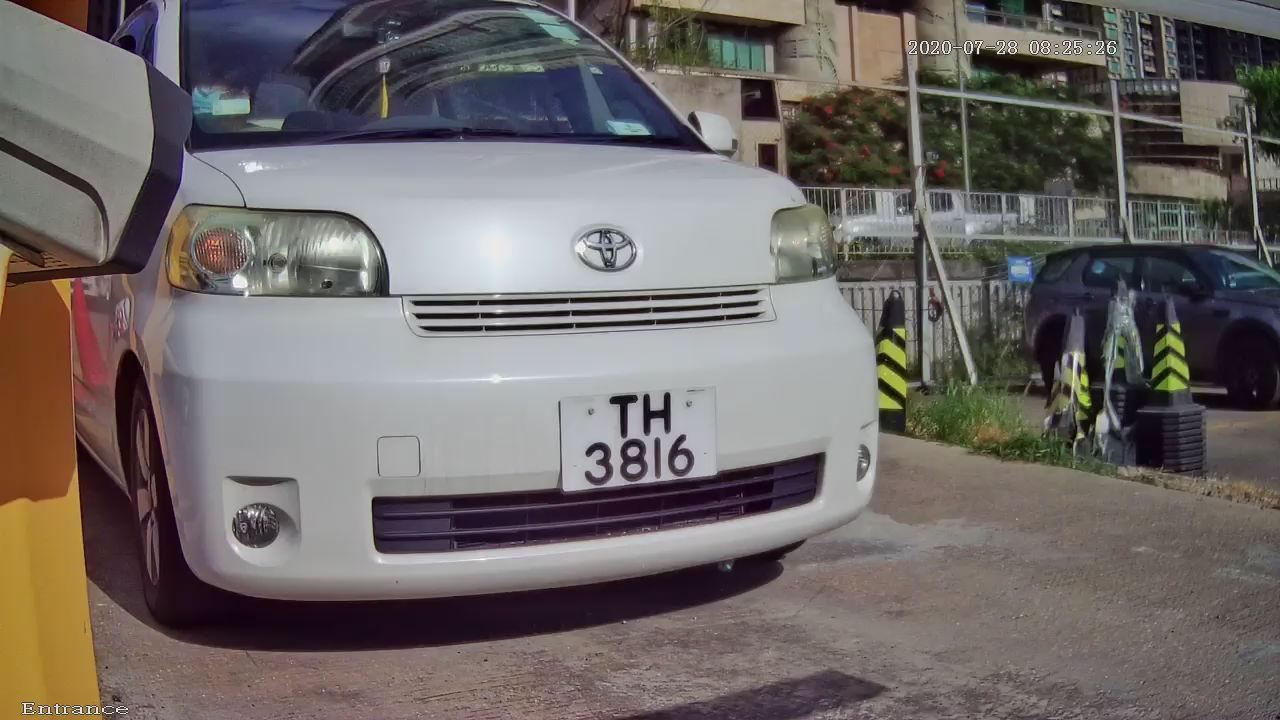privatecar: (35, 7, 955, 656)
